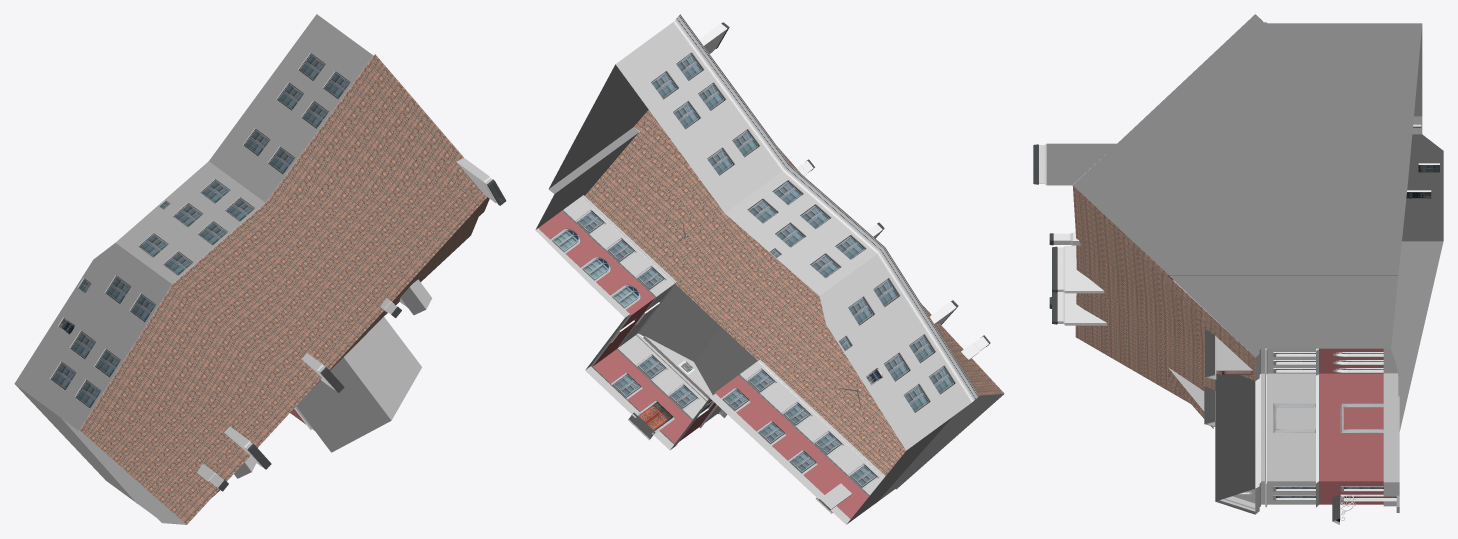
File: Kiriku-6_1.obj
The picture shows the model from 3 angles, left to right: view 1: azimuth 30°, elevation 25°; view 2: azimuth 150°, elevation 25°; view 3: azimuth 270°, elevation 25°; orthographic projection. The views are drawn at different scales.
Parts seen in each view (by area): view 1: Kiriku_6_1; view 2: Kiriku_6_1; view 3: Kiriku_6_1.
Boxes of the visible parts, box(x1,y1,x2,y2) form: Kiriku_6_1: box(14, 14, 506, 524); Kiriku_6_1: box(535, 14, 1004, 524); Kiriku_6_1: box(1033, 14, 1443, 524).
Size of the model in its own units: 35.2 by 35.86 by 23.41.
